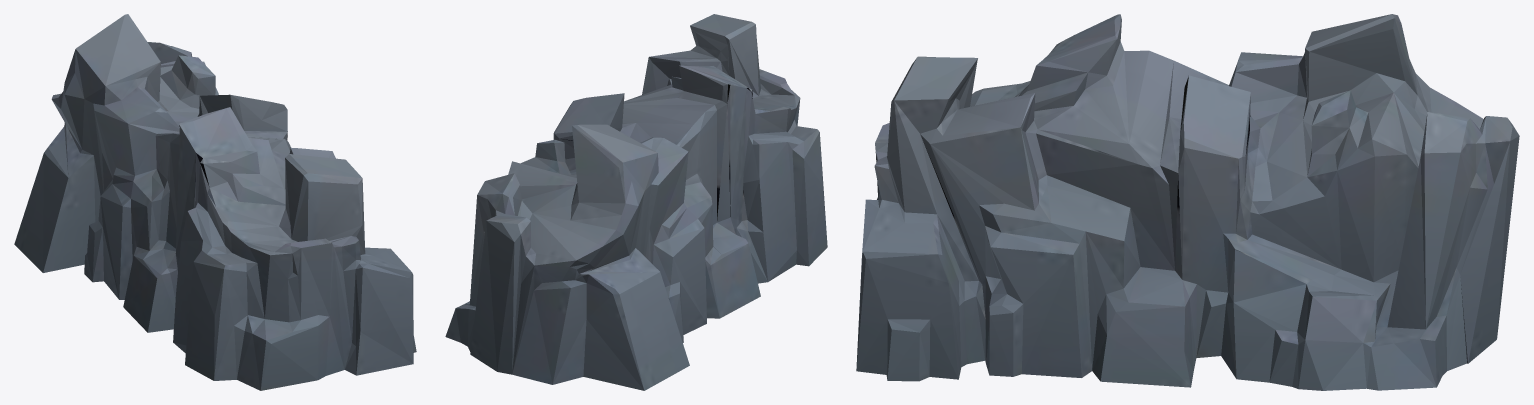
The model's file is cliff_wide.glb.
3 views of the same model, side by side, from view 1: azimuth 30°, elevation 25°; view 2: azimuth 150°, elevation 25°; view 3: azimuth 270°, elevation 25° (orthographic). The views are drawn at different scales.
Parts seen in each view (by area): view 1: cliff_wide; view 2: cliff_wide; view 3: cliff_wide.
Boxes of the visible parts, x1,y1,x2,y2 form: cliff_wide: (14,14,416,390); cliff_wide: (445,14,827,390); cliff_wide: (856,14,1519,390).
Bounding box in the file's own units: 5.29 × 5.29 × 10.58.
1 material, 1 textured.
